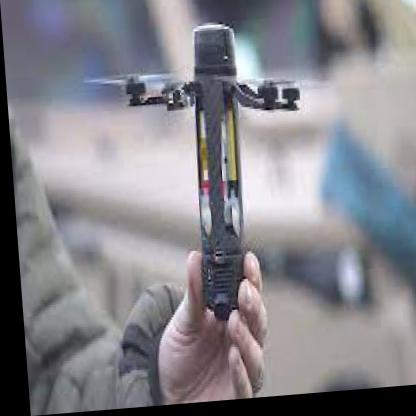UAS: (82, 19, 340, 333)
